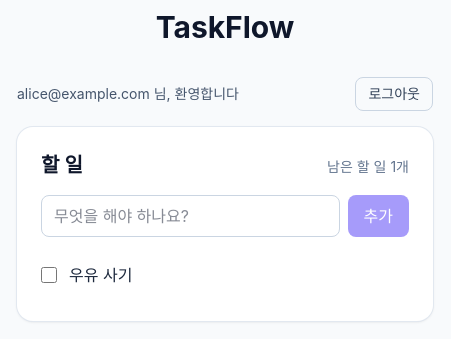
할 일 완료 체크 › 체크박스를 누르면 done을 서버에 보내고 체크 상태로 바꾼다
Check: the heading "할 일" is shown, box left=41, top=151, right=83, bottom=179
Click the checkbox labelled "우유 사기" at (49, 275), box left=41, top=267, right=57, bottom=283
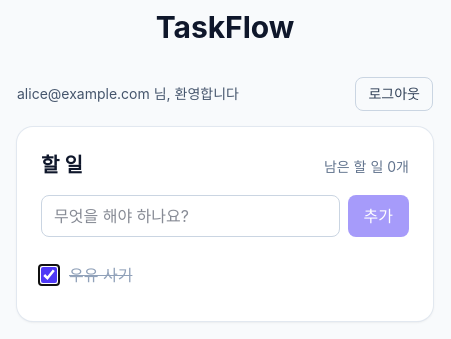
Check: the checkbox labelled "우유 사기" is checked, box left=41, top=267, right=57, bottom=283
Check: the text "남은 할 일 0개" is shown, box left=324, top=157, right=409, bottom=177
